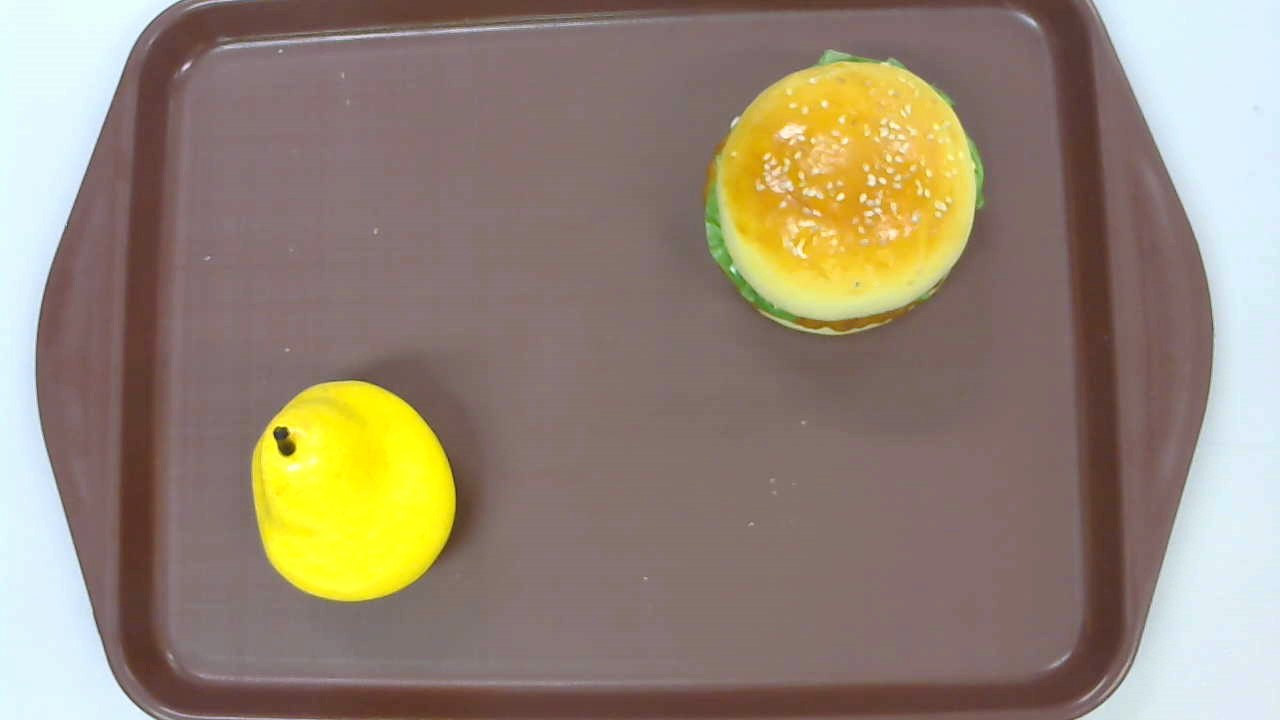hamburger: (703, 49, 985, 338)
yellow pear: (249, 380, 456, 603)
